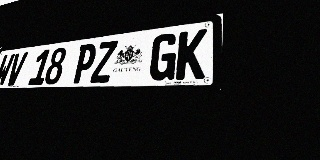1: (28, 49, 53, 85)
8: (43, 47, 69, 85)
G: (148, 32, 179, 81)
K: (175, 28, 207, 80)
P: (71, 43, 98, 84)
V: (5, 52, 28, 86)
W: (0, 54, 16, 86)
Z: (90, 40, 118, 83)
